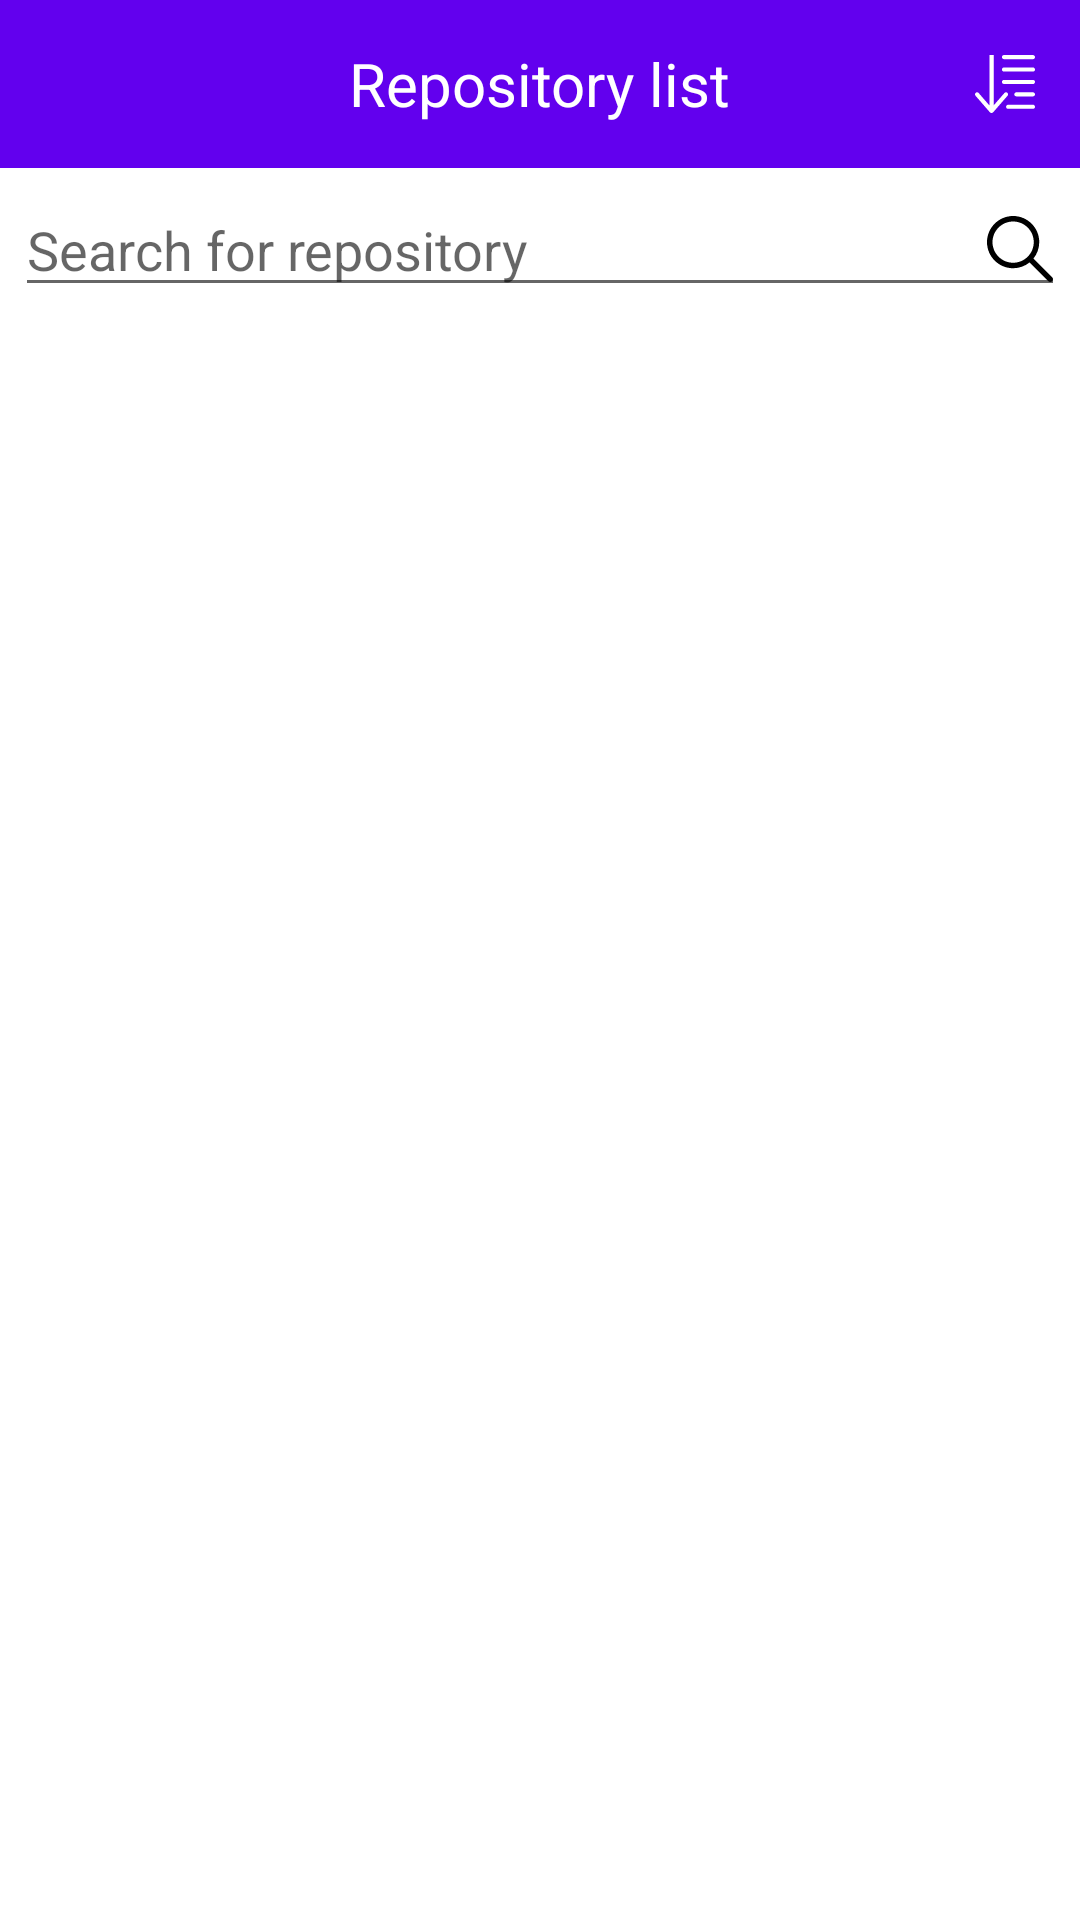

Icons on this 1080w x 1920h Android screen, each with the point to tap as (x,y):
sort: (1005,84)
